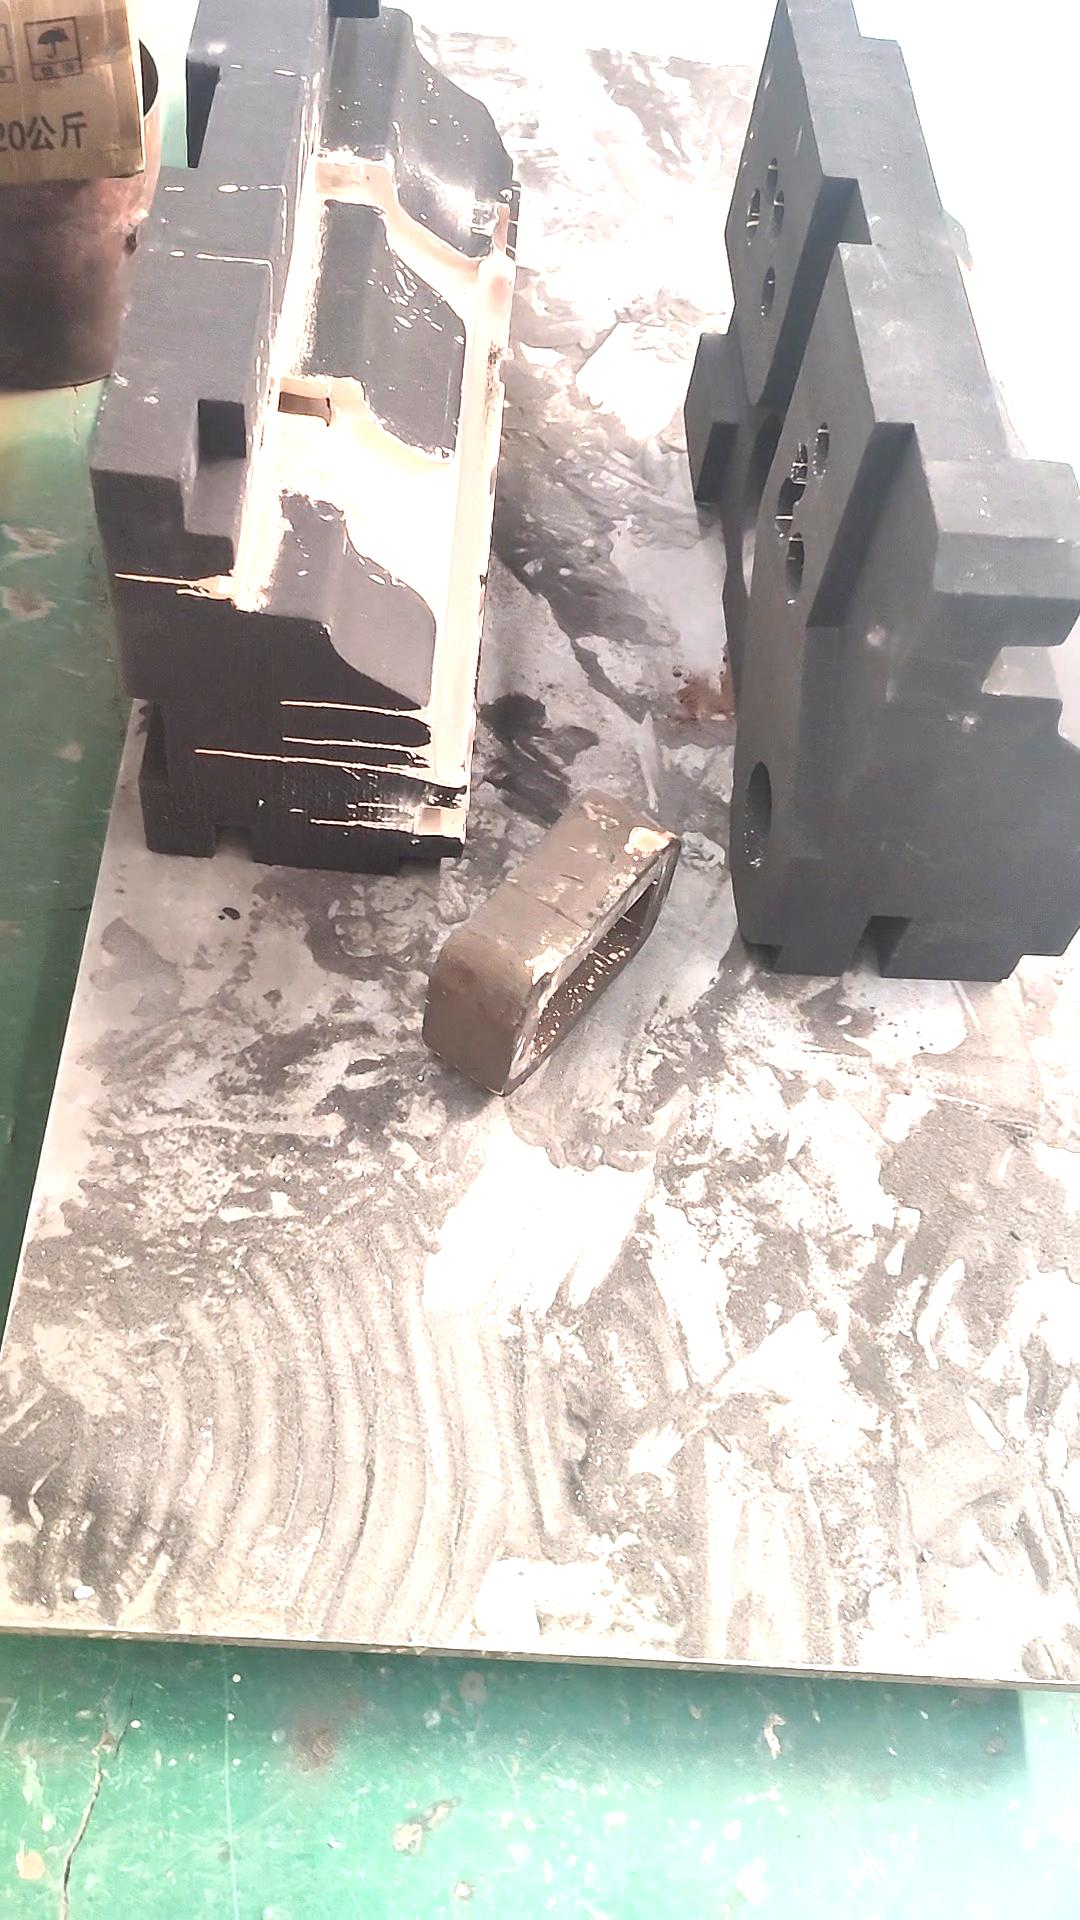pouring hole: (742, 761, 774, 869)
